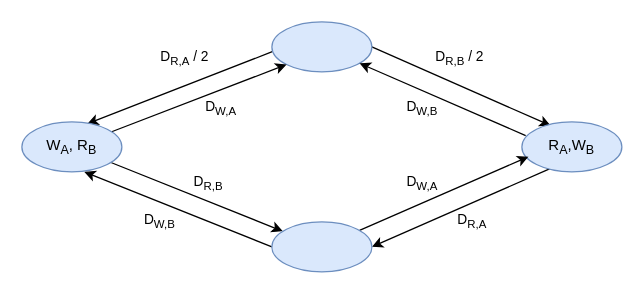
Image size: 644x294. Some labels were removed from this diagram. The centre of each missing label's shape, as x and y in pixels:
"R A , R B" goes at (x=321, y=46).
"W A , W B" goes at (x=321, y=246).
